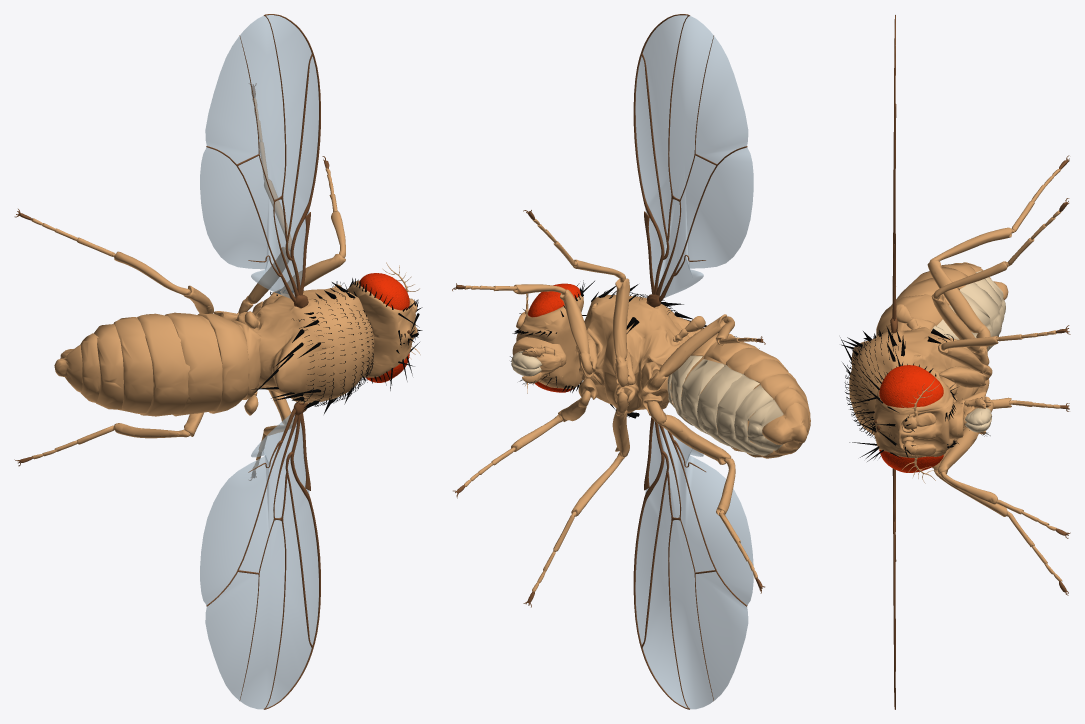
Rendered from flybody.glb.
The picture shows the model from 3 angles, left to right: view 1: azimuth 30°, elevation 25°; view 2: azimuth 150°, elevation 25°; view 3: azimuth 270°, elevation 25°; orthographic projection.
Visible parts, largest first — view 1: wing_left_membrane_geom, wing_right_membrane_geom, thorax_geom, abdomen_3_geom, abdomen_4_geom, wing_right_brown_geom, wing_left_brown_geom, head_geom, abdomen_5_geom, abdomen_2_geom, thorax_black_geom, abdomen_6_geom (+8 smaller); view 2: wing_left_membrane_geom, wing_right_membrane_geom, thorax_geom, wing_left_brown_geom, wing_right_brown_geom, head_geom, abdomen_4_lower_geom, abdomen_5_lower_geom, abdomen_8_geom, femur_T3_right_geom, femur_T2_left_geom, femur_T3_left_geom (+14 smaller); view 3: thorax_geom, head_geom, head_red_geom, thorax_black_geom, femur_T3_left_geom, abdomen_2_geom, femur_T2_left_geom, wing_left_brown_geom, abdomen_4_lower_geom, femur_T1_right_geom, tibia_T3_left_geom, head_black_geom (+12 smaller).
Part boxes in pixels (x1,y1,x2,y2): wing_left_membrane_geom: (200, 15, 318, 298); wing_right_membrane_geom: (200, 413, 318, 709); thorax_geom: (237, 287, 374, 403); abdomen_3_geom: (165, 312, 222, 416); abdomen_4_geom: (137, 313, 190, 416); wing_right_brown_geom: (206, 402, 320, 709); wing_left_brown_geom: (206, 14, 320, 308); head_geom: (347, 280, 415, 377); abdomen_5_geom: (113, 317, 153, 413); abdomen_2_geom: (198, 313, 248, 413); thorax_black_geom: (251, 282, 373, 413); abdomen_6_geom: (94, 324, 123, 409); wing_left_membrane_geom: (635, 15, 753, 297); wing_right_membrane_geom: (635, 421, 753, 709); thorax_geom: (576, 294, 702, 413); wing_left_brown_geom: (633, 14, 747, 307); wing_right_brown_geom: (633, 409, 747, 709); head_geom: (516, 295, 583, 388); abdomen_4_lower_geom: (697, 364, 742, 448); abdomen_5_lower_geom: (716, 373, 759, 454); abdomen_8_geom: (762, 402, 809, 449); femur_T3_right_geom: (647, 401, 731, 464); femur_T2_left_geom: (613, 278, 629, 387); femur_T3_left_geom: (647, 314, 727, 390); thorax_geom: (849, 327, 973, 435); head_geom: (873, 375, 953, 457); head_red_geom: (879, 365, 943, 472); thorax_black_geom: (840, 326, 953, 440); femur_T3_left_geom: (927, 259, 990, 348); abdomen_2_geom: (876, 294, 948, 336); femur_T2_left_geom: (931, 294, 989, 365); wing_left_brown_geom: (890, 15, 897, 333); abdomen_4_lower_geom: (959, 282, 1002, 348); femur_T1_right_geom: (937, 396, 993, 474); tibia_T3_left_geom: (930, 227, 1012, 261); head_black_geom: (849, 362, 958, 461).
Size of the model in its own units: 0.3013 by 0.6116 by 0.1858.
